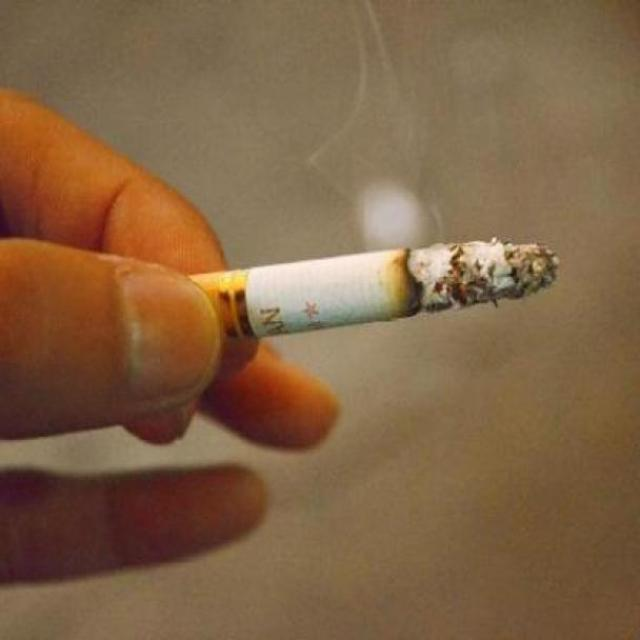rokok: (182, 235, 558, 339)
